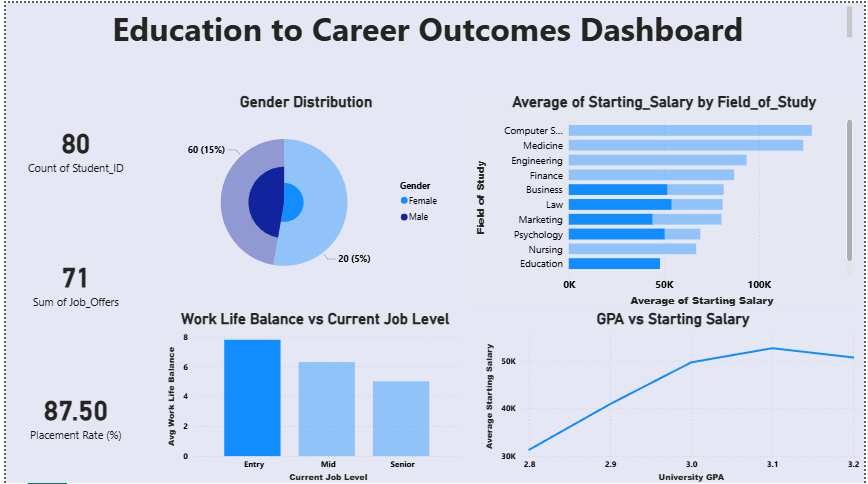

The page's visual inventory and layout, read from the dashboard file:
{"tool":"powerbi","page":{"name":"Page 1","canvas":[1280,720],"ordinal":0},"visuals":[{"type":"pieChart","title":"Gender Distribution","fields":{"Category":["education_career_success.Gender"],"Y":["CountNonNull(education_career_success.Gender)"]},"box":[209,94,449.3,309],"z":0},{"type":"lineChart","title":"GPA vs Starting Salary","fields":{"Category":["education_career_success.University_GPA"],"Y":["Avg(education_career_success.Starting_Salary)"]},"box":[711.9,429.9,568.7,289.6],"z":1000},{"type":"clusteredBarChart","fields":{"Category":["education_career_success.Field_of_Study"],"Y":["Avg(education_career_success.Starting_Salary)"]},"box":[685.1,94,583.6,322.4],"z":2000},{"type":"lineClusteredColumnComboChart","title":"Work Life Balance vs Current Job Level","fields":{"Category":["education_career_success.Current_Job_Level"],"Y":["Avg(education_career_success.Work_Life_Balance)"]},"box":[237.3,416.4,447.8,304.5],"z":3000},{"type":"textbox","box":[0,0,1268.2,63.8],"z":4000},{"type":"card","fields":{"Values":["Count(education_career_success.Student_ID)"]},"box":[0,88.1,209,161.2],"z":5000},{"type":"card","fields":{"Values":["Sum(education_career_success.Job_Offers)"]},"box":[0,295.5,209,162.7],"z":6000},{"type":"card","fields":{"Values":["Placement Rate (%).Placement Rate (%)"]},"box":[0,526.9,209,131.3],"z":6001}]}

Visuals, with their boxes in screenshot pixels (x1, y1, x2, y2), scaled from the page's 1280x720 canvas onto the 868x484 screenshot:
"Gender Distribution" pieChart: (142, 63, 446, 271)
"GPA vs Starting Salary" lineChart: (483, 289, 867, 483)
clusteredBarChart - education_career_success.Field_of_Study x Avg(education_career_success.Starting_Salary): (465, 63, 860, 280)
"Work Life Balance vs Current Job Level" lineClusteredColumnComboChart: (161, 280, 465, 483)
textbox: (0, 0, 860, 43)
card - Count(education_career_success.Student_ID): (0, 59, 142, 168)
card - Sum(education_career_success.Job_Offers): (0, 199, 142, 308)
card - Placement Rate (%).Placement Rate (%): (0, 354, 142, 442)
